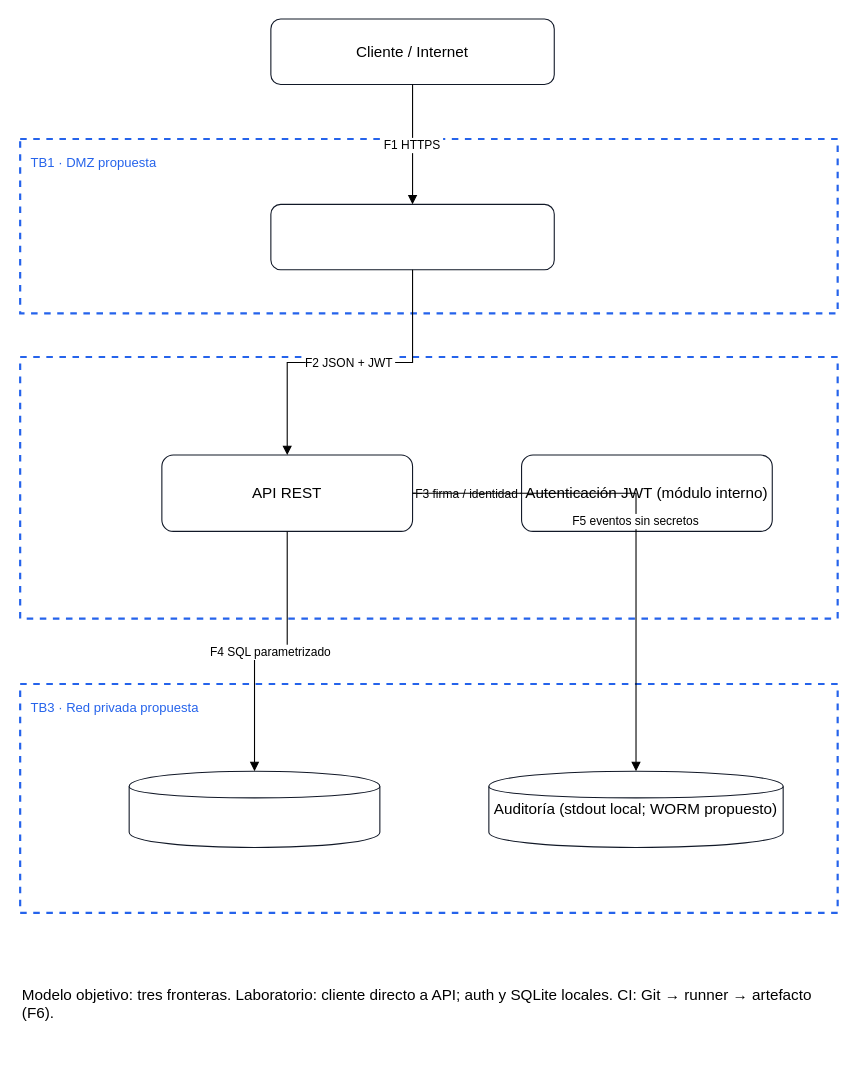
Some shapes in this 857 by 1085 pixel diagram are drawn without their labels. The shapes that lost their labels are listed below. From the top down, each one's box as (x1, y1, x2, y2) in pixels, then its label:
(270, 203, 554, 270): Frontend / gateway (propuesto)
(19, 355, 838, 619): TB2 · Zona API
(128, 770, 380, 847): Base de datos (SQLite local)
